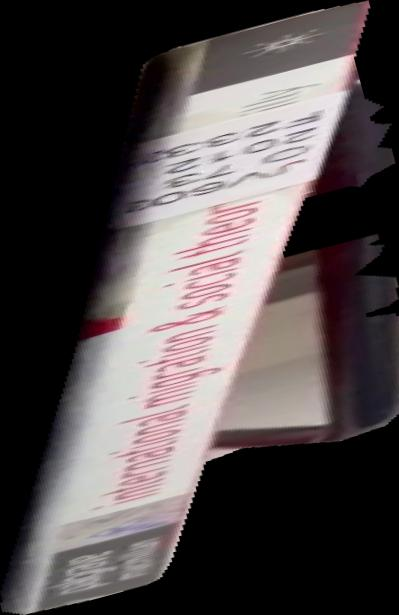reverse: (1, 1, 399, 615)
